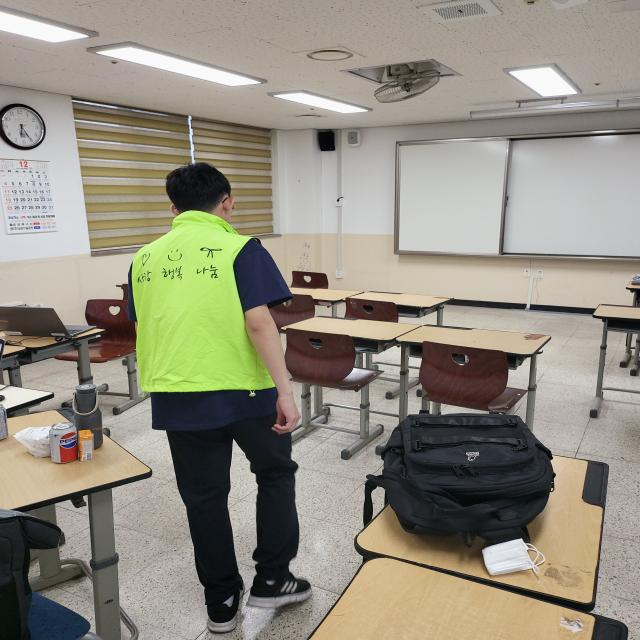weston_spy: (115, 200, 303, 418)
